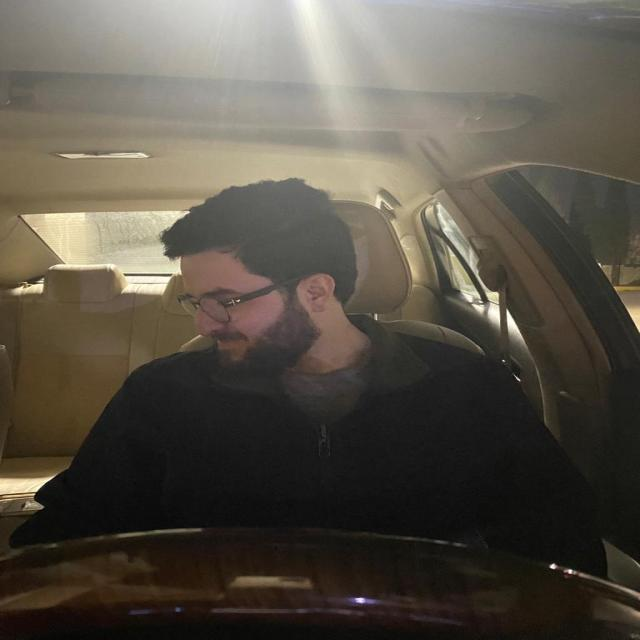LeftRight: (145, 166, 375, 390)
